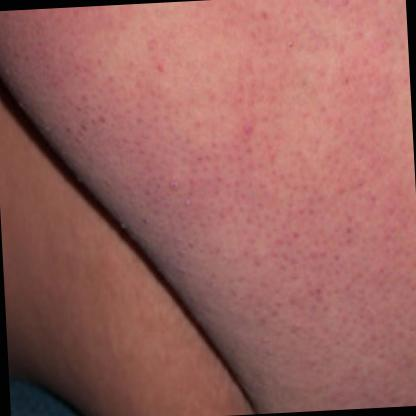Chicken Skin: (200, 0, 416, 344), (90, 0, 209, 206)
